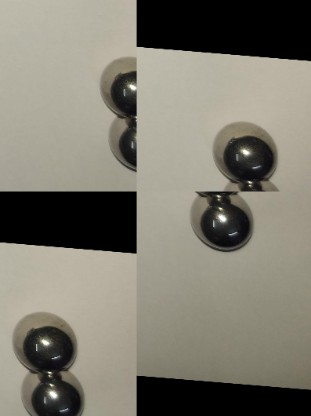ironball: (188, 195, 262, 254), (12, 309, 77, 373), (213, 115, 279, 178), (18, 368, 87, 412), (96, 51, 135, 115), (105, 107, 133, 170), (218, 175, 286, 191)
